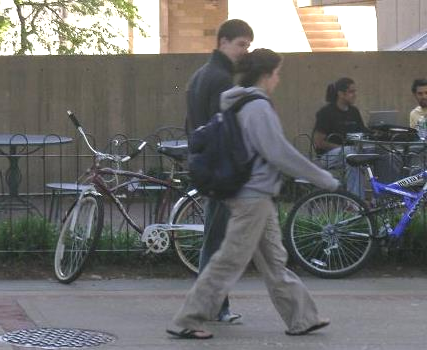pedestrian: (165, 49, 340, 339)
